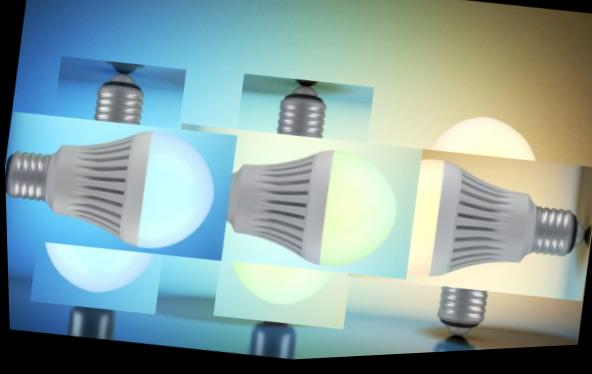Bulb: (361, 116, 580, 339), (182, 93, 401, 316), (2, 76, 215, 297)
